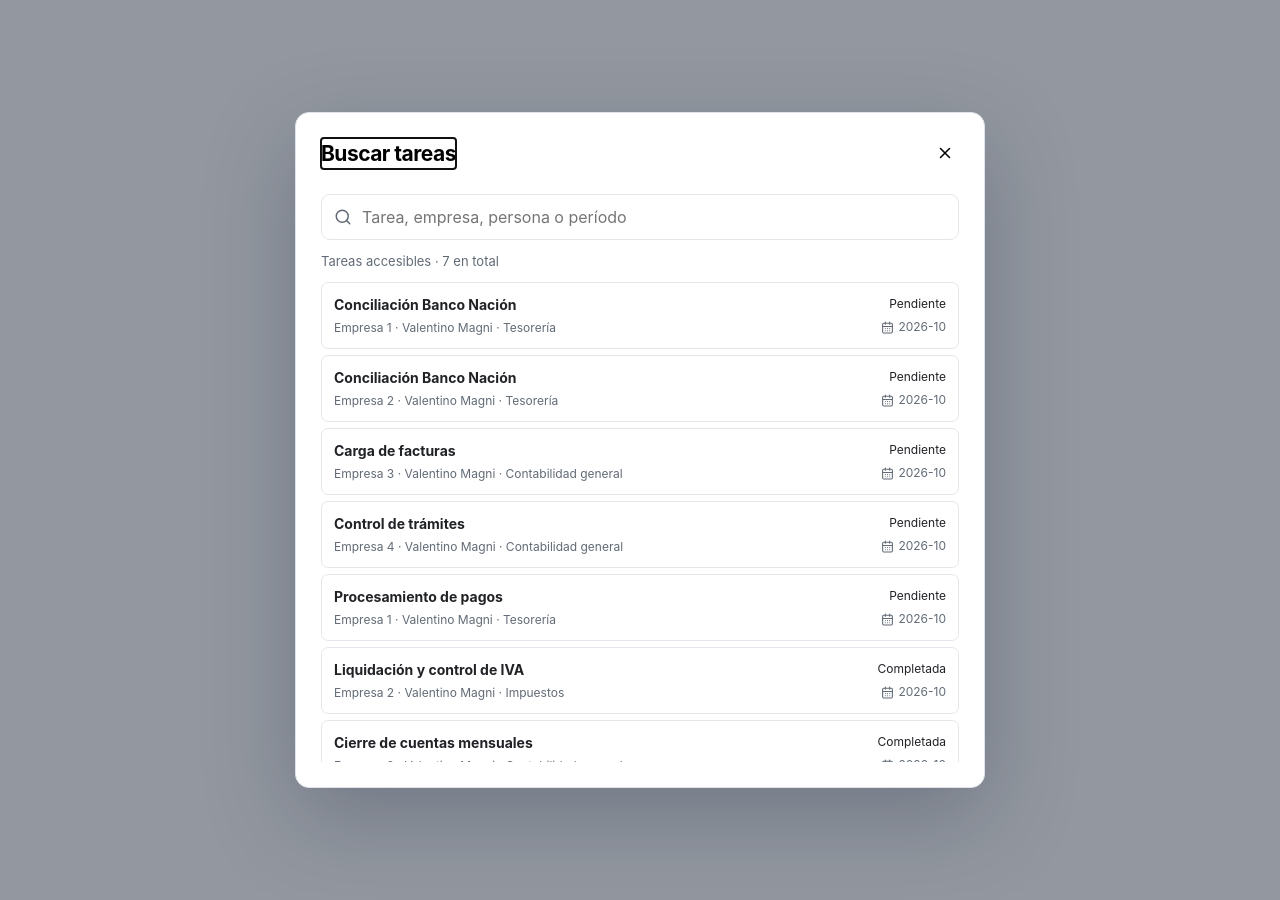
Test case: búsqueda rápida de tareas › muestra un estado vacío cuando no hay coincidencias accesibles
Type "ninguna tarea con este nombre" into the search field named "Buscar tareas por nombre, empresa, persona o período".
click(654, 217); type("ninguna tarea con este nombre")  # box x1=362 y1=195 x2=946 y2=239
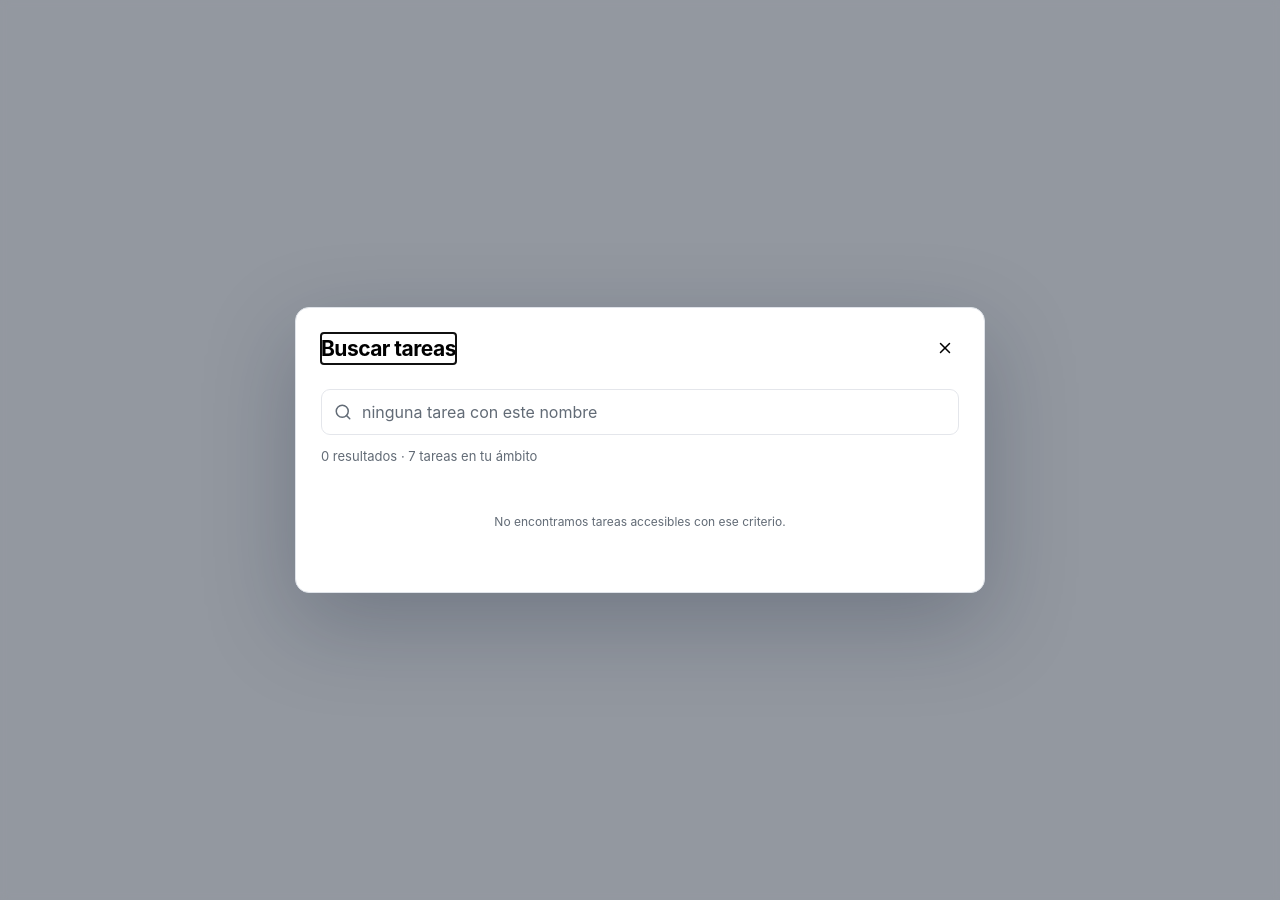
Check: the text "No encontramos tareas accesibles con ese criterio." is shown, box x1=494 y1=514 x2=786 y2=529
